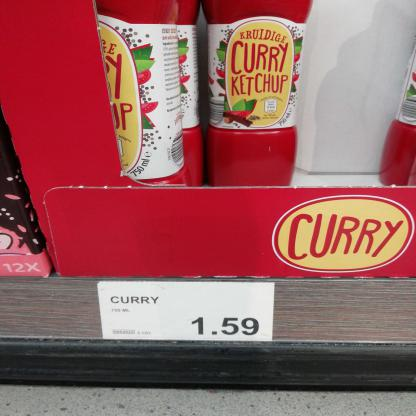prtg: (98, 283, 275, 342)
